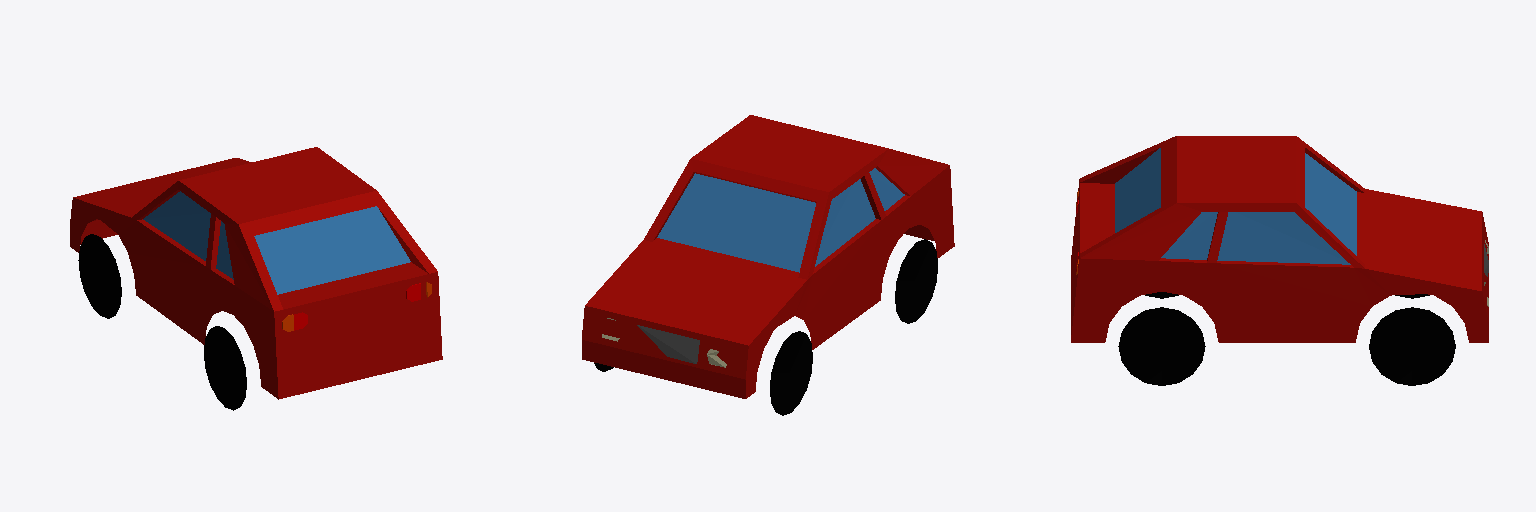
File: CarHatchback.obj
3 renders of one model, left to right at view 1: azimuth 30°, elevation 25°; view 2: azimuth 150°, elevation 25°; view 3: azimuth 270°, elevation 25°, orthographic.
Visible parts, largest first — view 1: car-hatchback-red_Cube.617; view 2: car-hatchback-red_Cube.617; view 3: car-hatchback-red_Cube.617.
Boxes of the visible parts, x1=… form: car-hatchback-red_Cube.617: x1=70, y1=147, x2=442, y2=410; car-hatchback-red_Cube.617: x1=582, y1=115, x2=954, y2=415; car-hatchback-red_Cube.617: x1=1071, y1=136, x2=1488, y2=385.
Size of the model in its own units: 0.8924 by 0.8235 by 1.81.